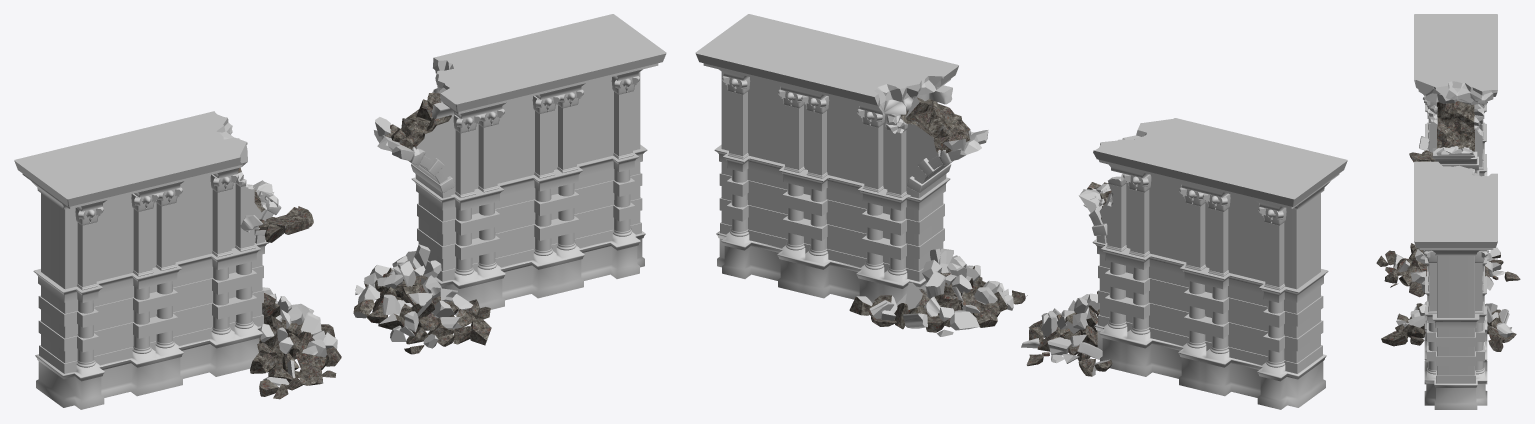
Rendered from backup.fbx.
The picture shows the model from 3 angles, left to right: view 1: azimuth 30°, elevation 25°; view 2: azimuth 150°, elevation 25°; view 3: azimuth 270°, elevation 25°; orthographic projection. The views are drawn at different scales.
Visible parts, largest first — view 1: LODGroup_1_MainMesh_1_SubMesh_8, LODGroup_1_MainMesh_1_SubMesh_3, LODGroup_1_MainMesh_1_SubMesh_9, LODGroup_1_MainMesh_1_SubMesh_10, LODGroup_1_MainMesh_1_SubMesh_11, LODGroup_1_MainMesh_1_SubMesh_2, LODGroup_1_MainMesh_1_SubMesh_1, LODGroup_1_MainMesh_1_SubMesh_7, LODGroup_1_MainMesh_1_SubMesh_5, LODGroup_1_MainMesh_1_SubMesh_6; view 2: LODGroup_1_MainMesh_1_SubMesh_8, LODGroup_1_MainMesh_1_SubMesh_3, LODGroup_1_MainMesh_1_SubMesh_9, LODGroup_1_MainMesh_1_SubMesh_10, LODGroup_1_MainMesh_1_SubMesh_11, LODGroup_1_MainMesh_1_SubMesh_1, LODGroup_1_MainMesh_1_SubMesh_2, LODGroup_1_MainMesh_1_SubMesh_5, LODGroup_1_MainMesh_1_SubMesh_7, LODGroup_1_MainMesh_1_SubMesh_6; view 3: LODGroup_1_MainMesh_1_SubMesh_9, LODGroup_1_MainMesh_1_SubMesh_10, LODGroup_1_MainMesh_1_SubMesh_8, LODGroup_1_MainMesh_1_SubMesh_3, LODGroup_1_MainMesh_1_SubMesh_2, LODGroup_1_MainMesh_1_SubMesh_11, LODGroup_1_MainMesh_1_SubMesh_5, LODGroup_1_MainMesh_1_SubMesh_7, LODGroup_1_MainMesh_1_SubMesh_1, LODGroup_1_MainMesh_1_SubMesh_6.
Part boxes in pixels (bbox=[...]): LODGroup_1_MainMesh_1_SubMesh_8: bbox=[38, 76, 642, 367]; LODGroup_1_MainMesh_1_SubMesh_3: bbox=[41, 72, 640, 363]; LODGroup_1_MainMesh_1_SubMesh_9: bbox=[17, 15, 663, 197]; LODGroup_1_MainMesh_1_SubMesh_10: bbox=[14, 14, 666, 373]; LODGroup_1_MainMesh_1_SubMesh_11: bbox=[35, 231, 645, 409]; LODGroup_1_MainMesh_1_SubMesh_2: bbox=[250, 266, 491, 399]; LODGroup_1_MainMesh_1_SubMesh_1: bbox=[259, 244, 473, 385]; LODGroup_1_MainMesh_1_SubMesh_7: bbox=[238, 93, 451, 242]; LODGroup_1_MainMesh_1_SubMesh_5: bbox=[216, 58, 453, 230]; LODGroup_1_MainMesh_1_SubMesh_6: bbox=[261, 261, 459, 384]; LODGroup_1_MainMesh_1_SubMesh_8: bbox=[719, 76, 1323, 367]; LODGroup_1_MainMesh_1_SubMesh_3: bbox=[721, 72, 1320, 363]; LODGroup_1_MainMesh_1_SubMesh_9: bbox=[698, 15, 1344, 197]; LODGroup_1_MainMesh_1_SubMesh_10: bbox=[695, 14, 1347, 373]; LODGroup_1_MainMesh_1_SubMesh_11: bbox=[716, 231, 1326, 409]; LODGroup_1_MainMesh_1_SubMesh_1: bbox=[871, 248, 1102, 363]; LODGroup_1_MainMesh_1_SubMesh_2: bbox=[849, 266, 1112, 376]; LODGroup_1_MainMesh_1_SubMesh_5: bbox=[874, 76, 1146, 217]; LODGroup_1_MainMesh_1_SubMesh_7: bbox=[900, 97, 1111, 218]; LODGroup_1_MainMesh_1_SubMesh_6: bbox=[870, 267, 1102, 362]; LODGroup_1_MainMesh_1_SubMesh_9: bbox=[1416, 15, 1495, 240]; LODGroup_1_MainMesh_1_SubMesh_10: bbox=[1414, 14, 1497, 383]; LODGroup_1_MainMesh_1_SubMesh_8: bbox=[1423, 96, 1489, 374]; LODGroup_1_MainMesh_1_SubMesh_3: bbox=[1411, 157, 1474, 375]; LODGroup_1_MainMesh_1_SubMesh_2: bbox=[1376, 243, 1520, 351]; LODGroup_1_MainMesh_1_SubMesh_11: bbox=[1424, 168, 1487, 409]; LODGroup_1_MainMesh_1_SubMesh_5: bbox=[1414, 80, 1497, 176]; LODGroup_1_MainMesh_1_SubMesh_7: bbox=[1409, 101, 1474, 162]; LODGroup_1_MainMesh_1_SubMesh_1: bbox=[1394, 249, 1513, 337]; LODGroup_1_MainMesh_1_SubMesh_6: bbox=[1393, 253, 1510, 333].
Bounding box in the file's own units: 3813 × 1395 × 1021.
